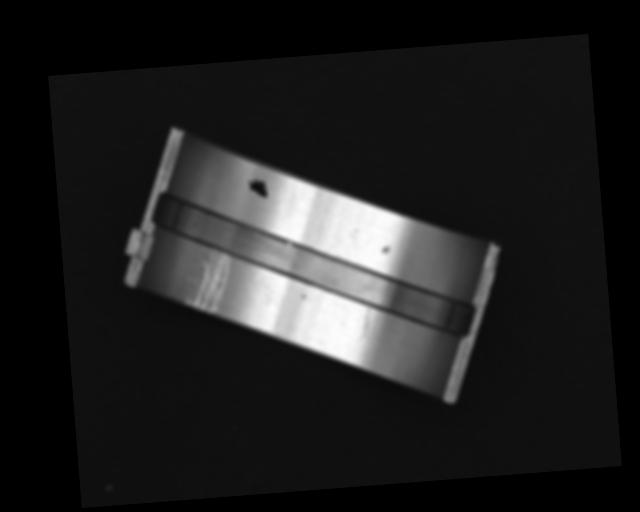blot: (246, 177, 269, 200)
bruise: (381, 246, 391, 254), (301, 292, 305, 299)
gap: (152, 169, 479, 361)
nick: (353, 304, 373, 347)
scratch: (180, 251, 233, 314)
